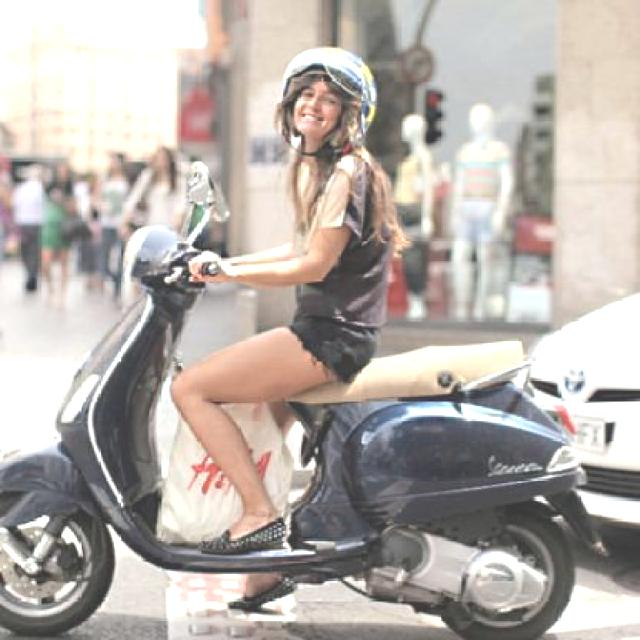With Helmet: (275, 42, 380, 158)
